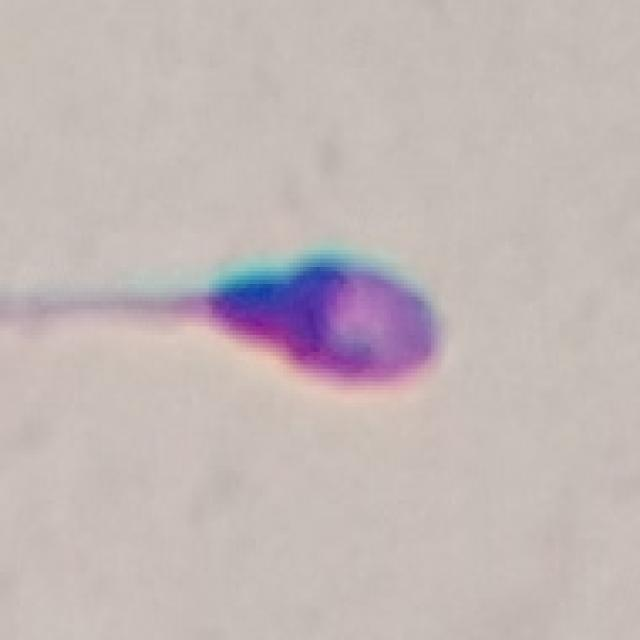abnormal sperm: (3, 236, 454, 423)
